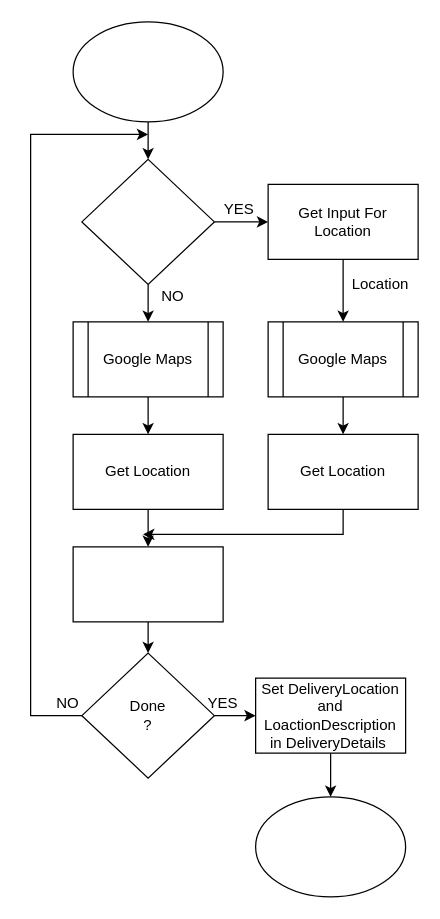
Image size: 440x919. Some labels were removed from this diagram. The centre of each missing label's shape, as x and y in pixels:
"END" belongs at pixel 330 846.
"Get Description from Describe your address input" belongs at pixel 147 584.
"Search For Your Location ?" belongs at pixel 147 221.
"Start" belongs at pixel 147 71.
